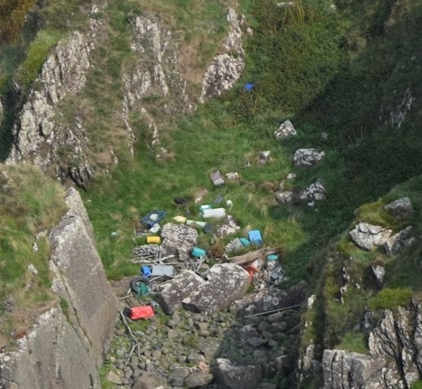together_barrel: (120, 190, 282, 326)
tube: (243, 298, 301, 321)
white_in_green: (232, 69, 269, 104)
